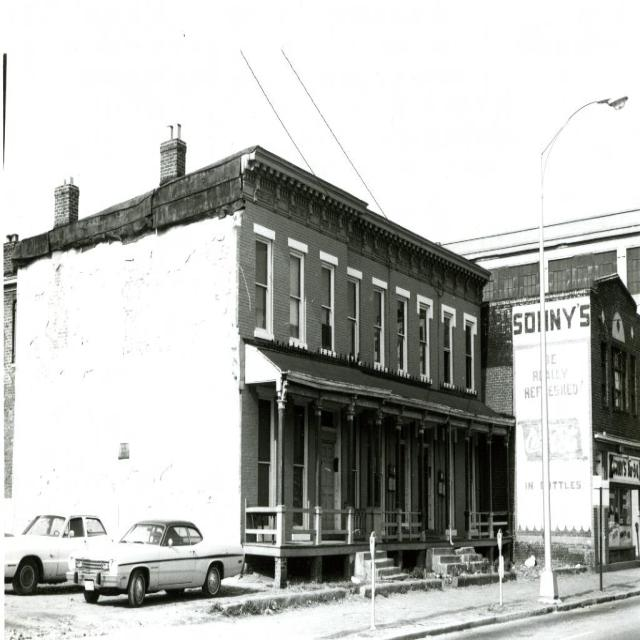car: (54, 522, 230, 614)
